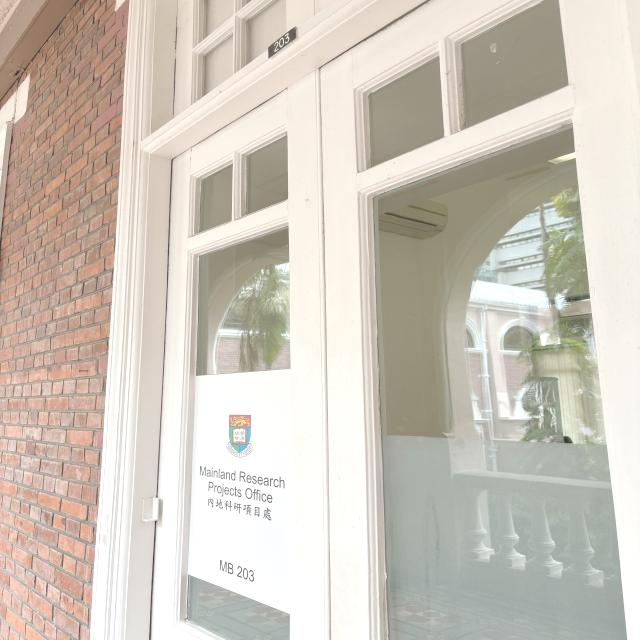MB203_bannerNumber: (216, 556, 257, 587)
MB203_roomNum: (264, 23, 299, 63)
